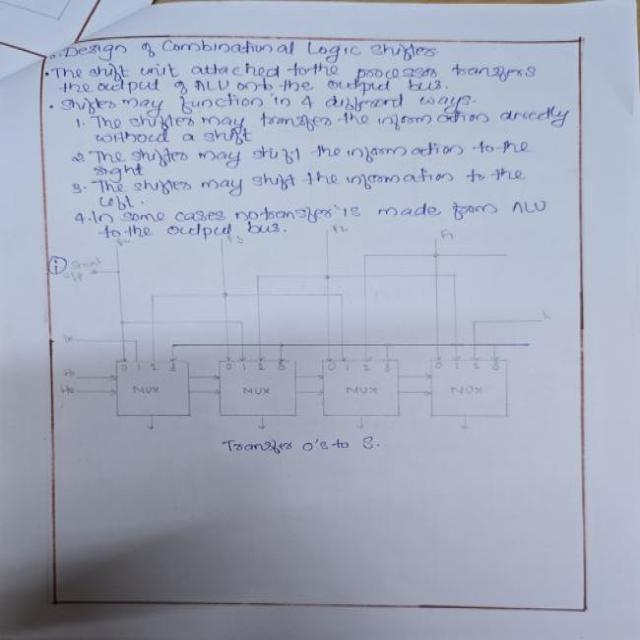Figure Detection - v3 Dataset Version2: (44, 219, 569, 468)
